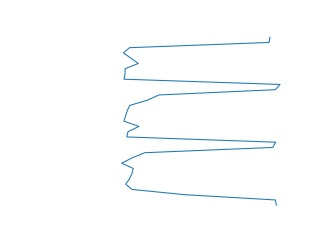majorRiverChannelBar: (119, 38, 282, 207)
